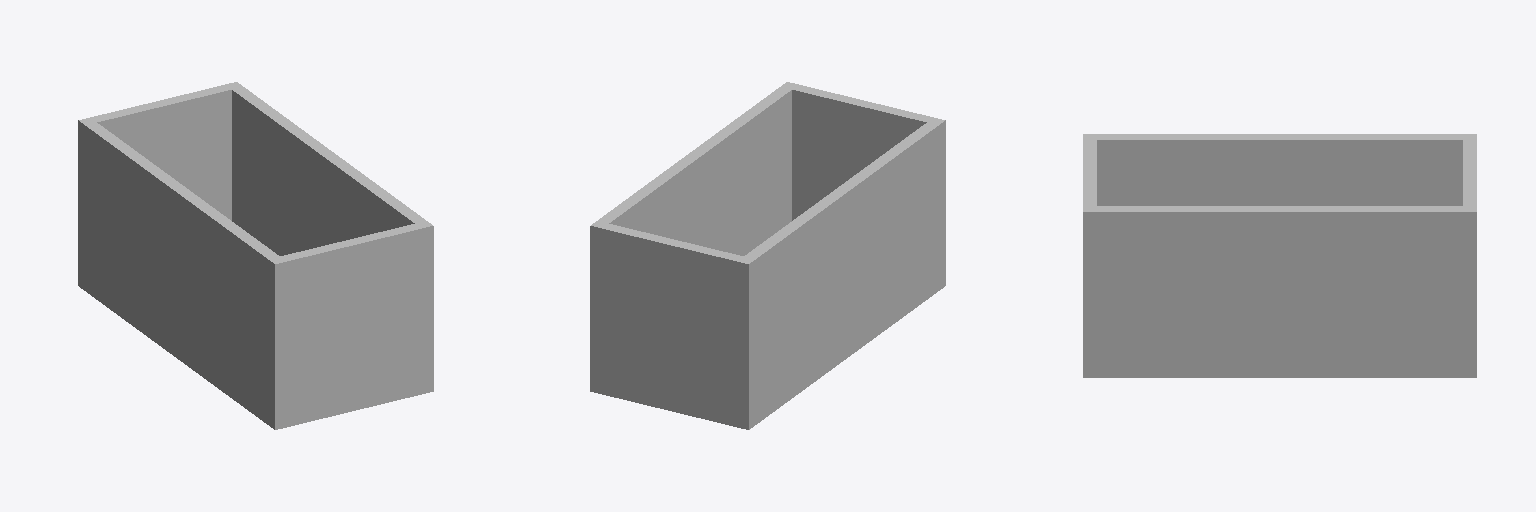
Rendered from Terrarium_walls.obj.
The picture shows the model from 3 angles: view 1: azimuth 30°, elevation 25°; view 2: azimuth 150°, elevation 25°; view 3: azimuth 270°, elevation 25°; orthographic projection.
Parts seen in each view (by area): view 1: Cube.002, Cube.003, Cube.001, Cube.004; view 2: Cube.002, Cube.004, Cube.001, Cube.003; view 3: Cube.001, Cube.002, Cube.003, Cube.004.
Boxes of the visible parts, box(x1,y1,x2,y2) form: Cube.002: box(85, 123, 279, 424); Cube.003: box(268, 221, 433, 429); Cube.001: box(232, 87, 425, 255); Cube.004: box(78, 82, 242, 290); Cube.002: box(744, 123, 938, 424); Cube.004: box(590, 221, 755, 429); Cube.001: box(598, 87, 791, 255); Cube.003: box(781, 82, 945, 290); Cube.001: box(1097, 206, 1462, 377); Cube.002: box(1097, 134, 1462, 205); Cube.003: box(1083, 134, 1096, 377); Cube.004: box(1463, 134, 1476, 377).
Bounding box in the file's own units: 40 × 40 × 86.